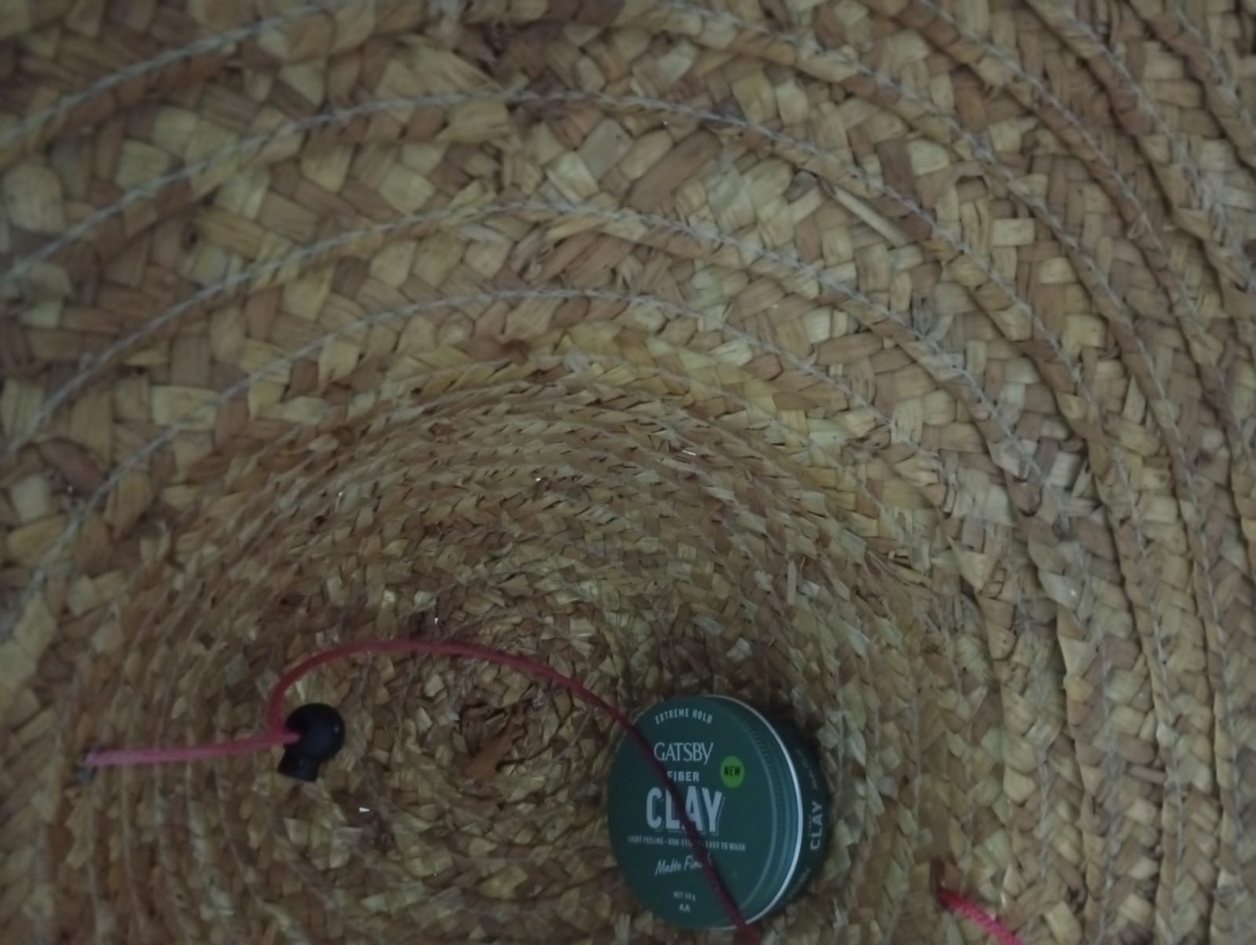Minyak_Rambut: (574, 670, 848, 938)
